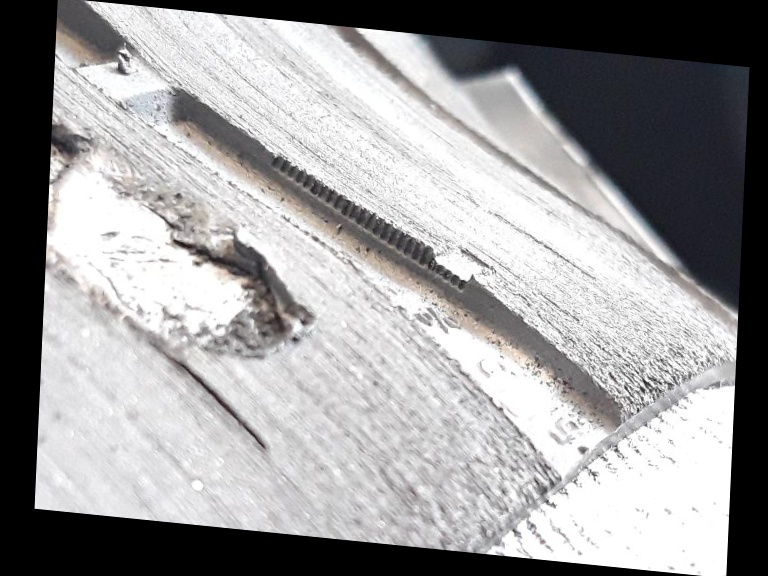temoin:0: (398, 215, 502, 306)
